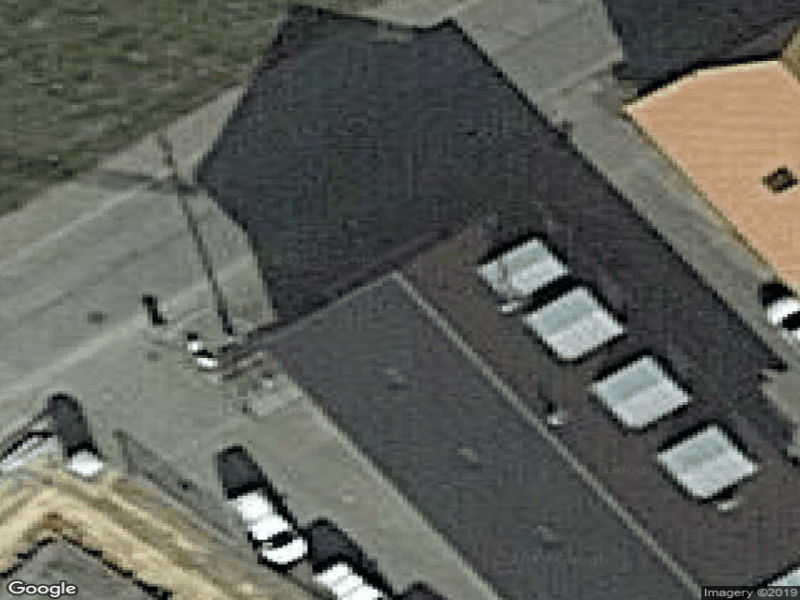pv: (263, 278, 699, 600)
